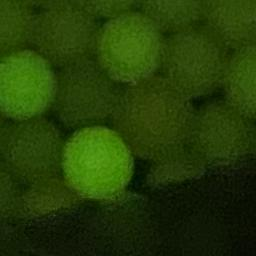negative: (119, 77, 194, 160), (160, 25, 226, 98), (1, 114, 66, 183), (92, 190, 160, 254), (192, 102, 256, 168), (55, 61, 119, 124), (32, 6, 97, 64), (142, 147, 209, 193), (19, 175, 80, 222), (202, 0, 256, 47), (140, 0, 203, 34), (0, 0, 37, 48), (0, 167, 24, 231), (79, 0, 139, 20), (1, 220, 34, 256), (35, 0, 79, 14)
positive: (64, 124, 135, 201), (98, 13, 166, 85), (0, 48, 56, 120), (226, 42, 256, 115)
